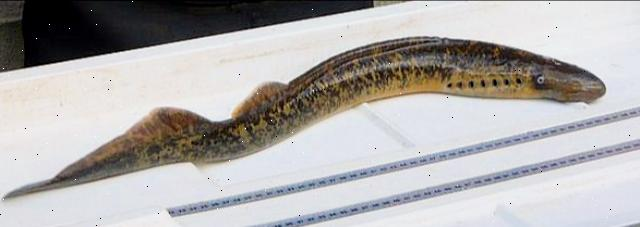Sirip Ekor: (2, 140, 99, 227)
